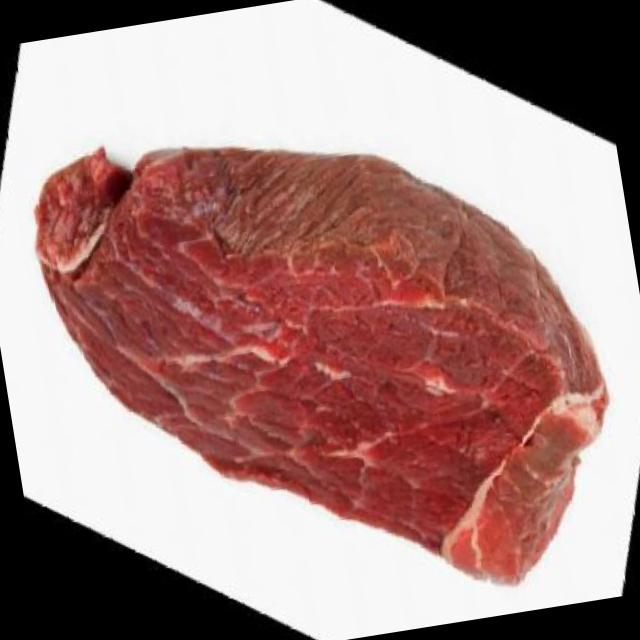beef: (28, 81, 637, 640)
